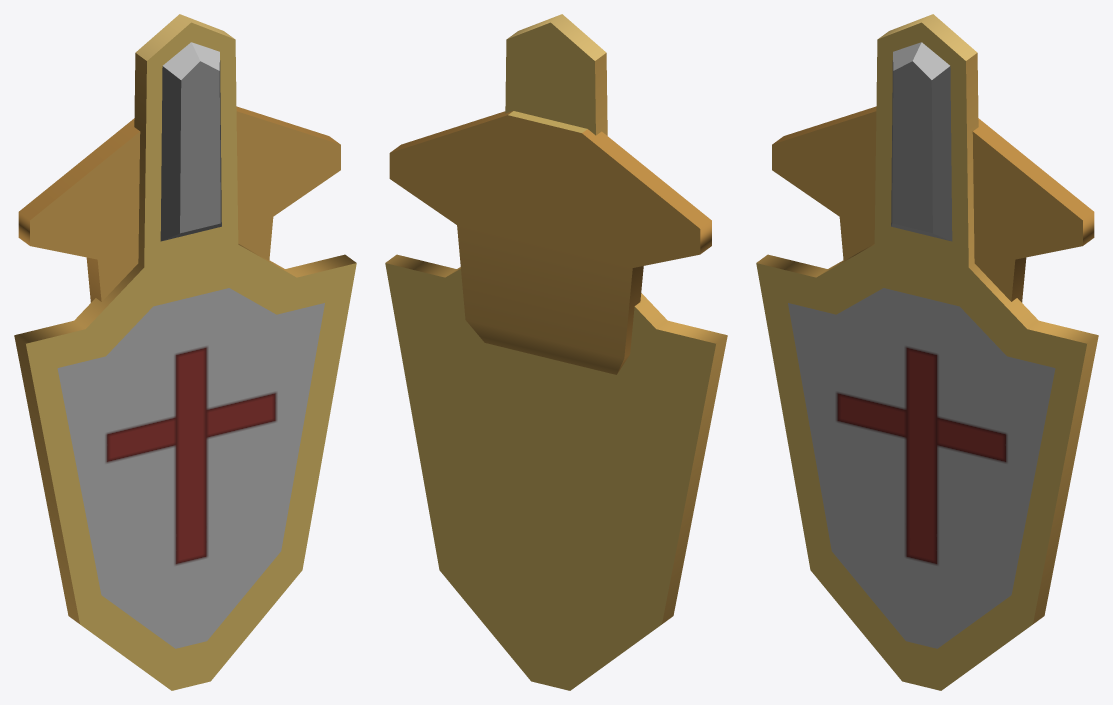
Rendered from SF_Wep_Elven_Sheild_02.fbx.
3 renders of one model, left to right at view 1: azimuth 30°, elevation 25°; view 2: azimuth 150°, elevation 25°; view 3: azimuth 330°, elevation 25°, orthographic.
Visible parts, largest first — view 1: SF_Wep_Elven_Sheild_02; view 2: SF_Wep_Elven_Sheild_02; view 3: SF_Wep_Elven_Sheild_02.
Part boxes in pixels (x1,y1,x2,y2): SF_Wep_Elven_Sheild_02: (14,14,356,690); SF_Wep_Elven_Sheild_02: (385,14,727,690); SF_Wep_Elven_Sheild_02: (756,14,1098,690).
Bounding box in the file's own units: 0.7938 × 1.52 × 0.1102.
